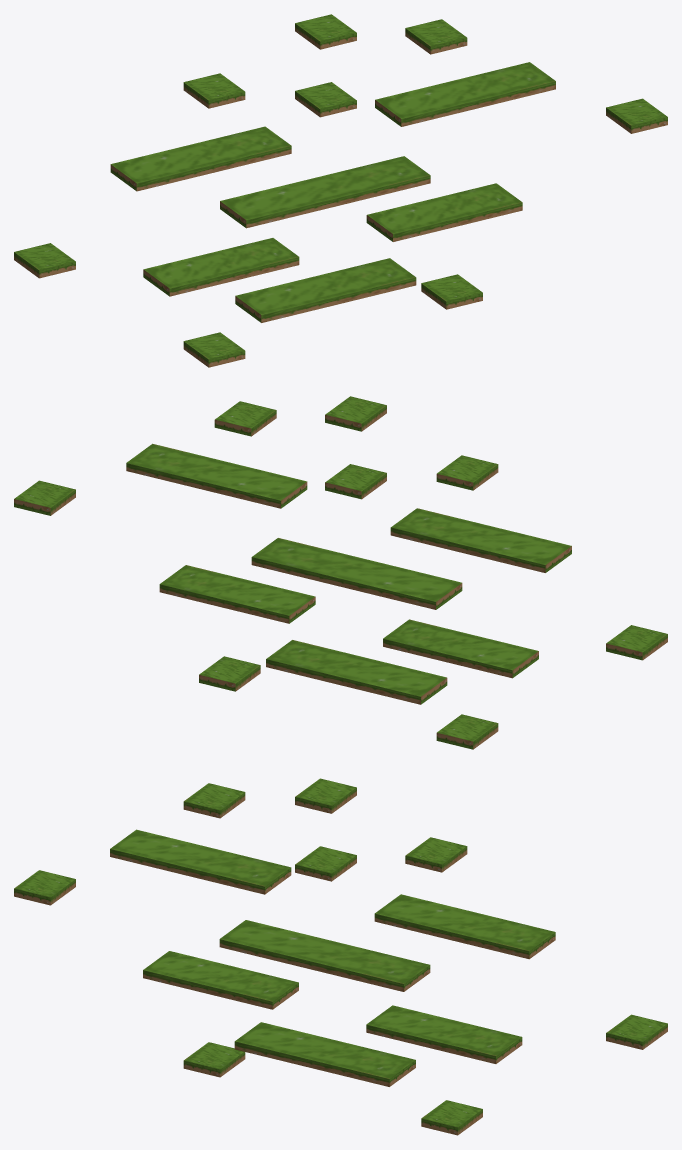
Rendered from level_1.FBX.
3 views of the same model, one above another, from view 1: azimuth 30°, elevation 25°; view 2: azimuth 150°, elevation 25°; view 3: azimuth 330°, elevation 25° (orthographic).
Parts seen in each view (by area): view 1: level, mid_left_platform006, mid_left_platform007, mid_left_platform002, mid_left_platform009, mid_left_platform008; view 2: level, mid_left_platform006, mid_left_platform002, mid_left_platform007, mid_left_platform008, mid_left_platform009; view 3: level, mid_left_platform006, mid_left_platform002, mid_left_platform007, mid_left_platform008, mid_left_platform009.
Part boxes in pixels (x1,y1,x2,y2): level: (14, 14, 667, 367); mid_left_platform006: (220, 156, 430, 228); mid_left_platform007: (235, 258, 416, 322); mid_left_platform002: (375, 62, 555, 126); mid_left_platform009: (143, 238, 299, 296); mid_left_platform008: (366, 183, 522, 241); level: (14, 396, 667, 749); mid_left_platform006: (251, 538, 462, 609); mid_left_platform002: (126, 443, 307, 508); mid_left_platform007: (266, 640, 447, 704); mid_left_platform008: (159, 565, 315, 623); mid_left_platform009: (383, 619, 538, 678); level: (14, 778, 667, 1135); mid_left_platform006: (219, 920, 430, 991); mid_left_platform002: (374, 894, 555, 959); mid_left_platform007: (234, 1022, 415, 1086); mid_left_platform008: (366, 1005, 522, 1063); mid_left_platform009: (143, 951, 298, 1009).
Bounding box in the file's own units: 407 × 185 × 29.51.
1 material, 1 textured.
